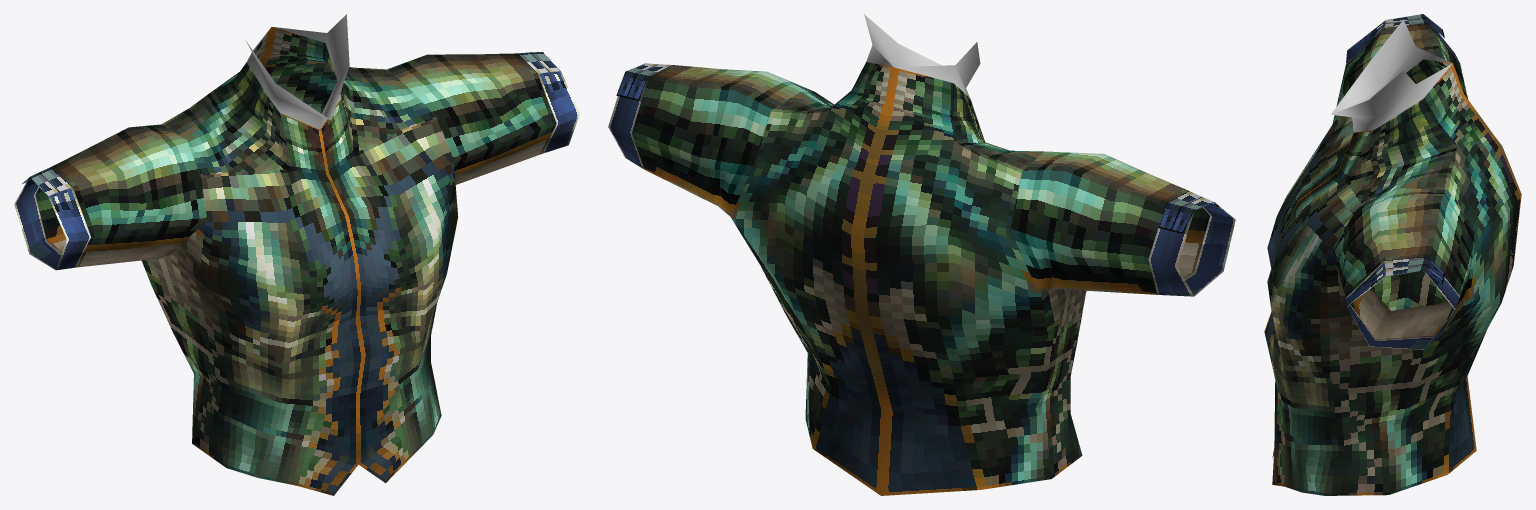
The picture shows the model from 3 angles, left to right: view 1: azimuth 30°, elevation 25°; view 2: azimuth 150°, elevation 25°; view 3: azimuth 270°, elevation 25°; orthographic projection. The views are drawn at different scales.
Visible parts, largest first — view 1: mesh00; view 2: mesh00; view 3: mesh00.
Boxes of the visible parts, bbox=[...] form: mesh00: bbox=[14, 14, 579, 495]; mesh00: bbox=[608, 14, 1235, 495]; mesh00: bbox=[1264, 14, 1521, 495].
Bounding box in the file's own units: 72 × 55.84 × 30.5.
